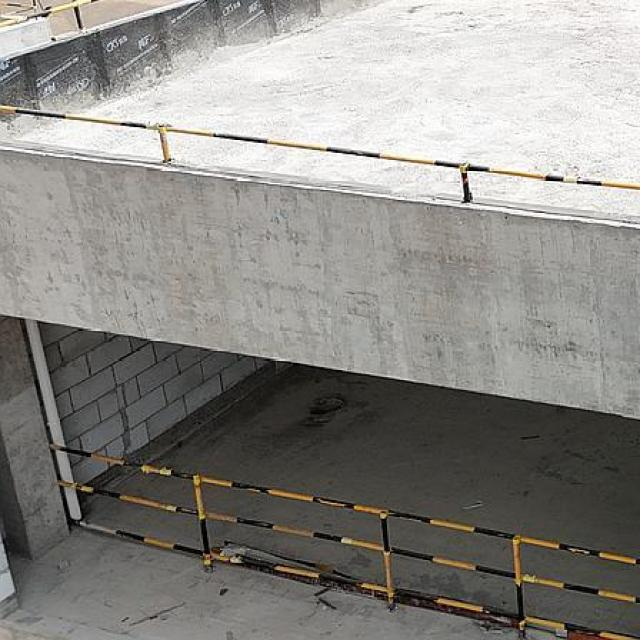edge_guardrail: (47, 443, 640, 640), (0, 104, 640, 202), (0, 0, 99, 30)
